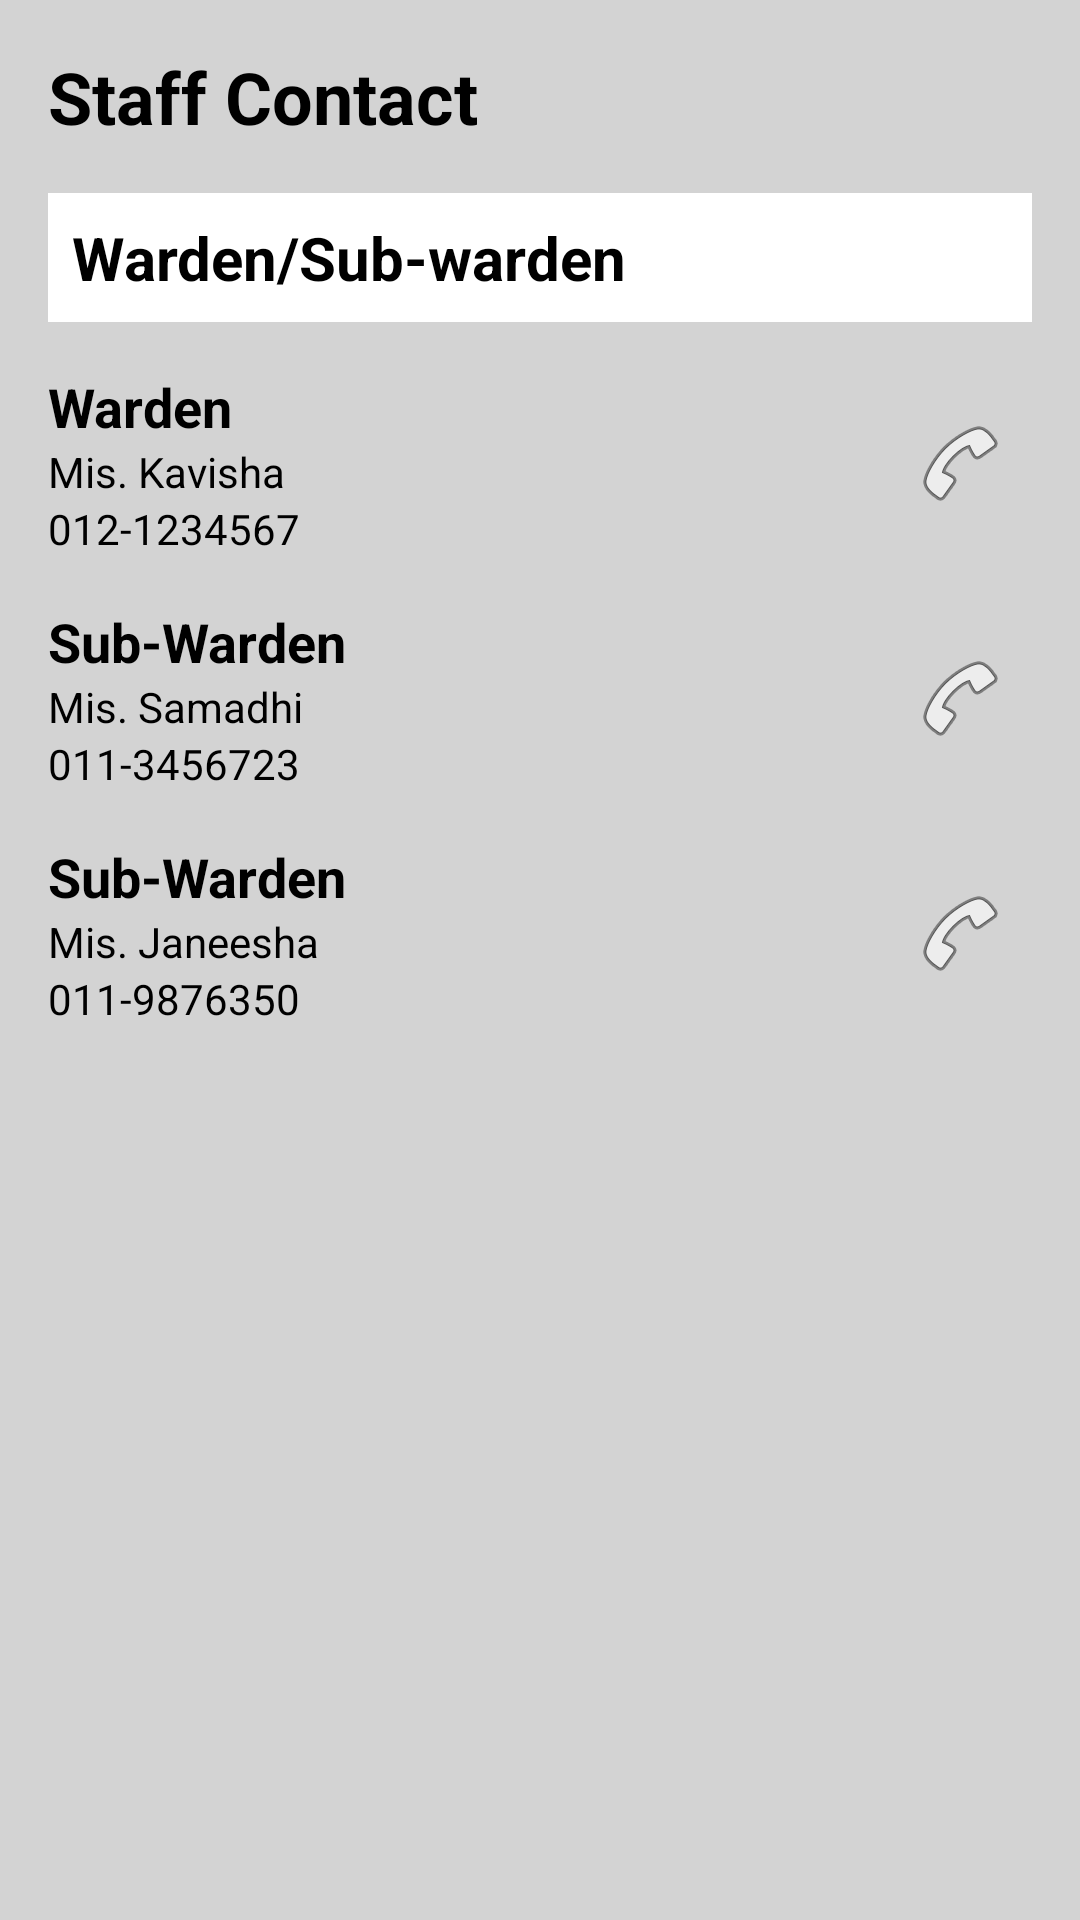

Icons on this 1080px x 1920px Android screen, each with the point to tap as (x=x, y=y):
Call Janeesha: (x=960, y=933)
Call Kavisha: (x=960, y=463)
Call Samadhi: (x=960, y=698)
